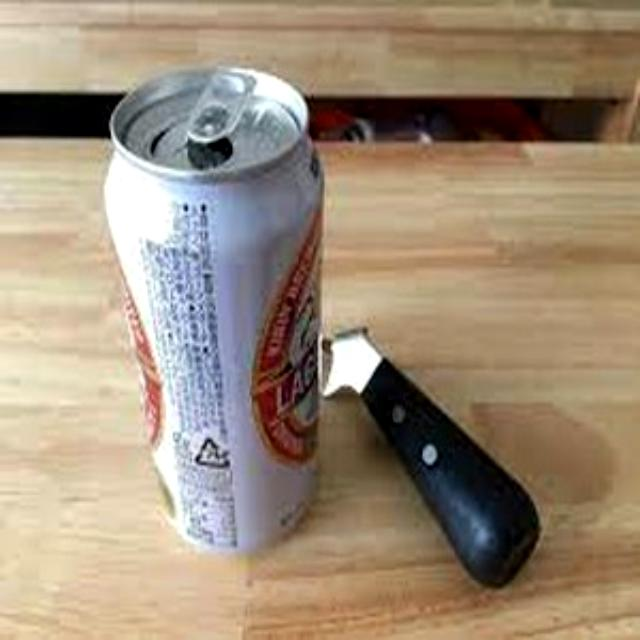Metal: (95, 67, 329, 557)
